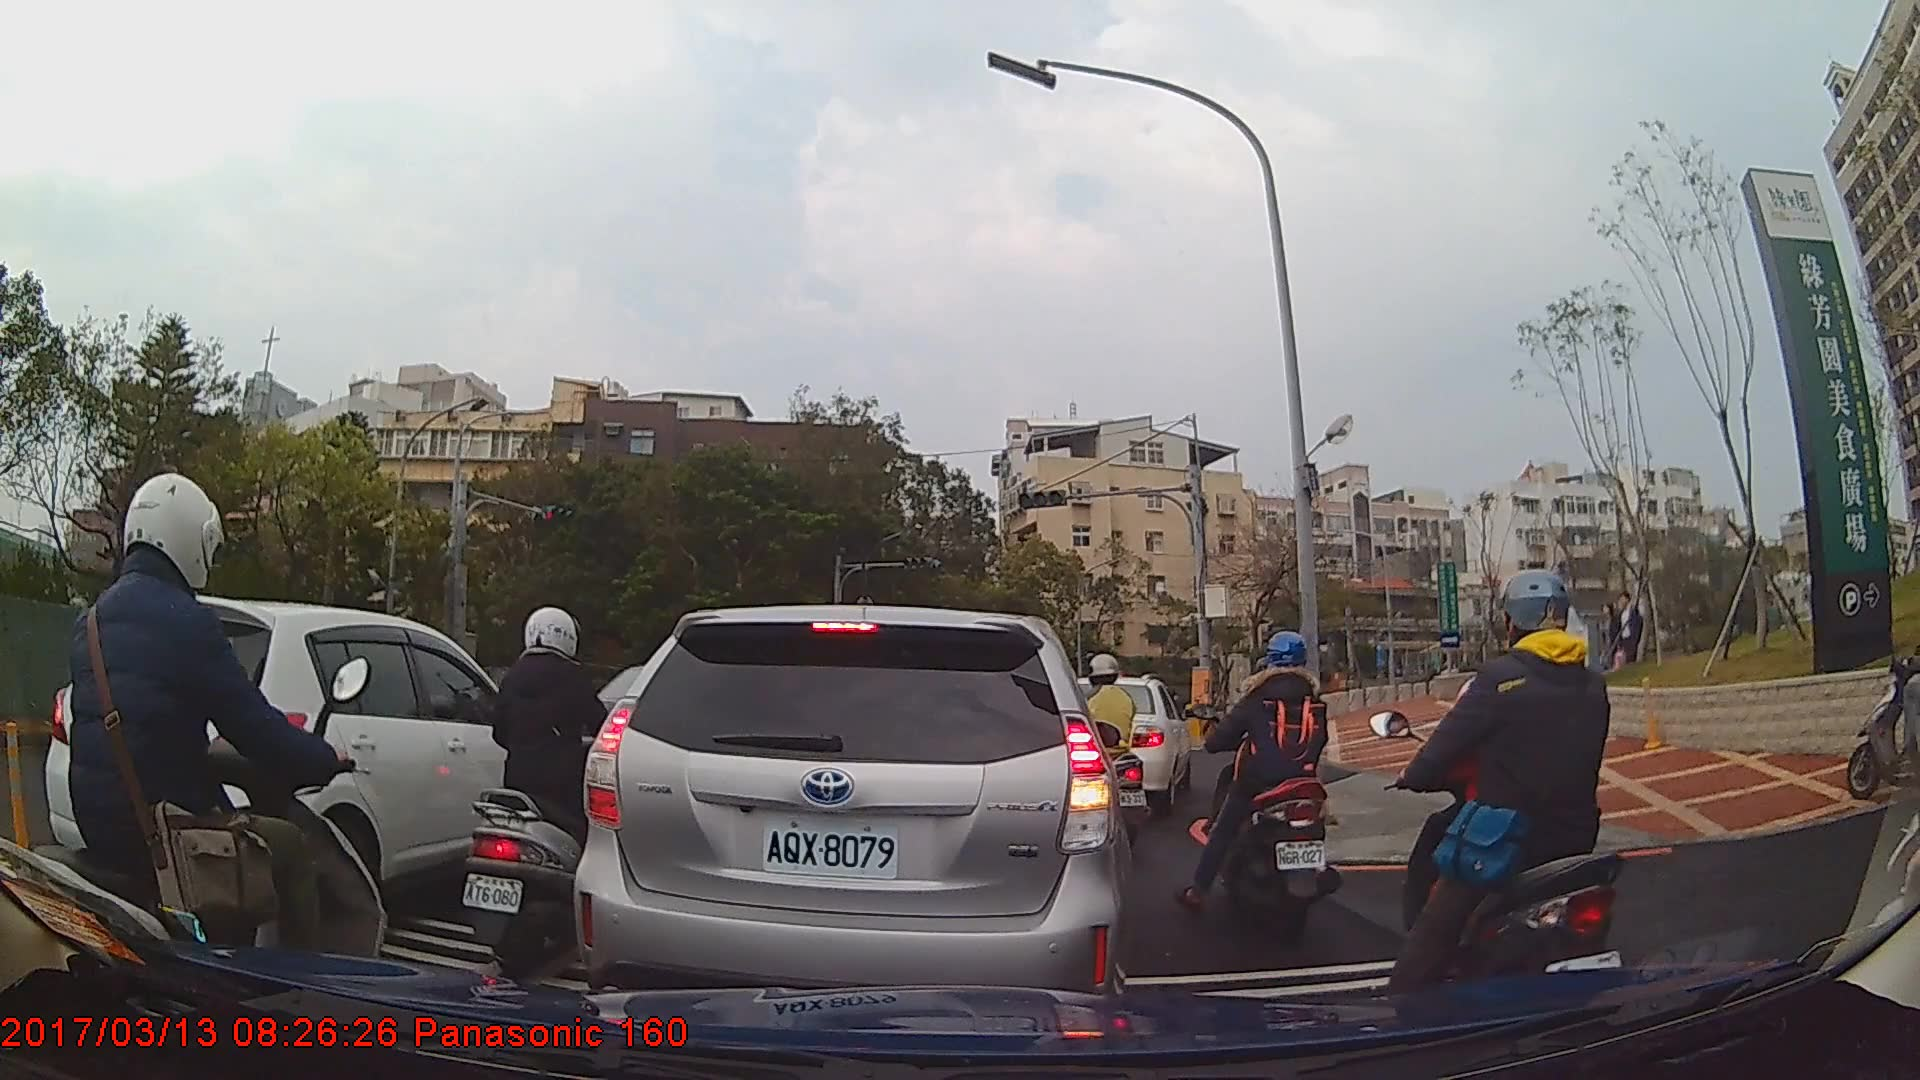pedestrian: (1608, 582, 1650, 677), (1590, 594, 1627, 686)
rider: (24, 476, 381, 1057), (1368, 570, 1633, 1034), (462, 605, 644, 974), (1179, 627, 1353, 945), (1058, 653, 1150, 845)
vehicle: (568, 601, 1139, 1033), (40, 591, 572, 930), (1043, 672, 1193, 819)
